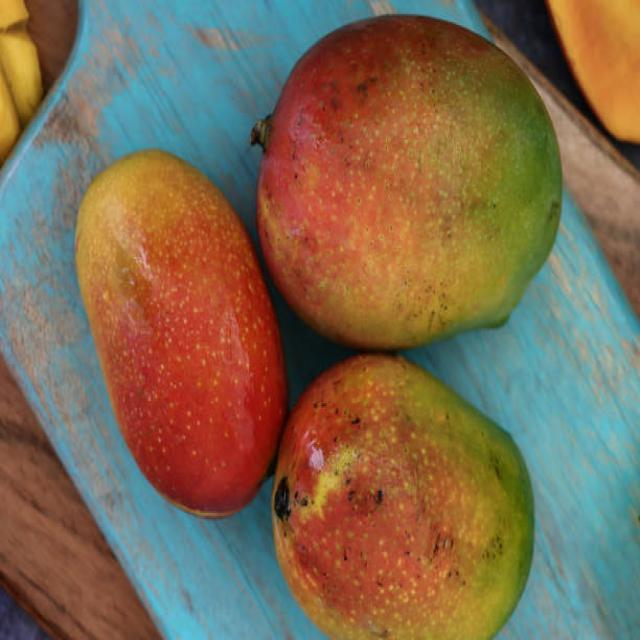mango: (258, 15, 561, 349), (76, 150, 288, 515), (272, 354, 532, 638)
